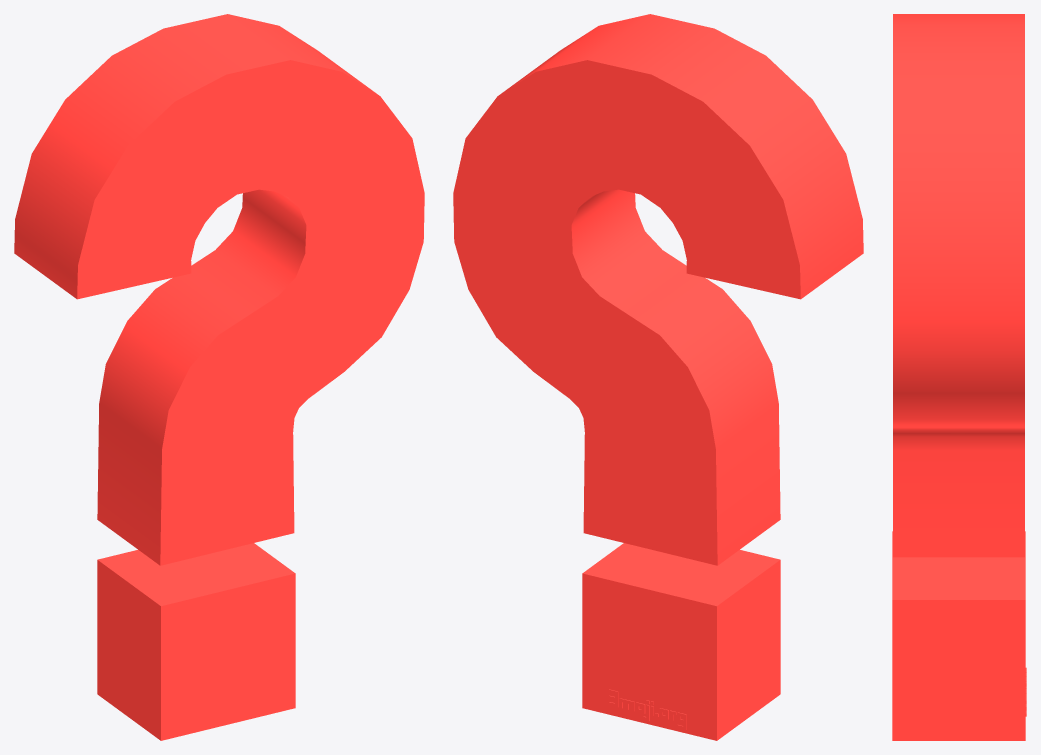
File: red_question_mark.gltf
3 views of the same model, side by side, from view 1: azimuth 30°, elevation 25°; view 2: azimuth 150°, elevation 25°; view 3: azimuth 270°, elevation 25° (orthographic). The views are drawn at different scales.
Visible parts, largest first — view 1: Cube.6446; view 2: Cube.6446; view 3: Cube.6446.
Boxes of the visible parts, bbox=[...] form: Cube.6446: bbox=[14, 14, 424, 740]; Cube.6446: bbox=[453, 14, 863, 740]; Cube.6446: bbox=[892, 14, 1026, 740].
Bounding box in the file's own units: 1.19 × 2.12 × 0.3789.
1 material, 1 textured.
